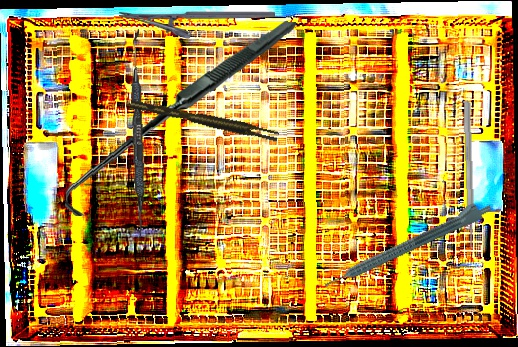Handpiece: (319, 195, 494, 291)
Hook Surgical: (64, 10, 297, 227)
Needle Holder: (119, 11, 275, 39)
Pusher: (461, 100, 477, 250)
Spatula Surgical: (126, 28, 150, 240)
Tissue Forceps: (129, 92, 280, 147)
